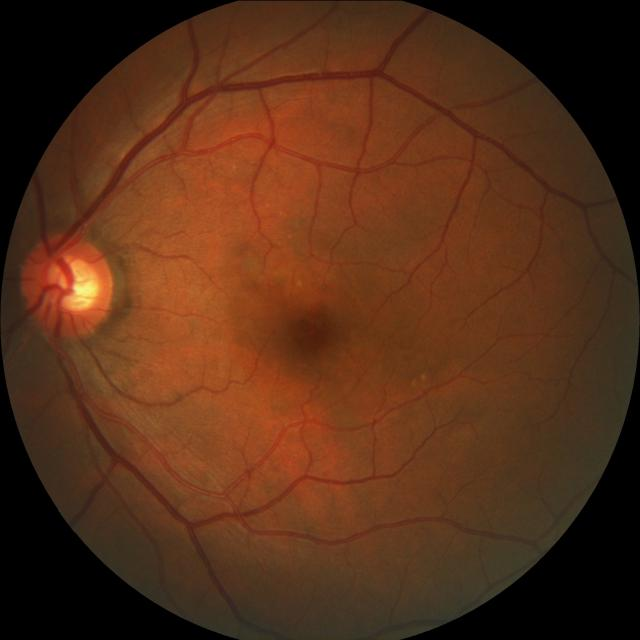OC: (45, 249, 101, 313)
OD: (22, 231, 116, 338)
